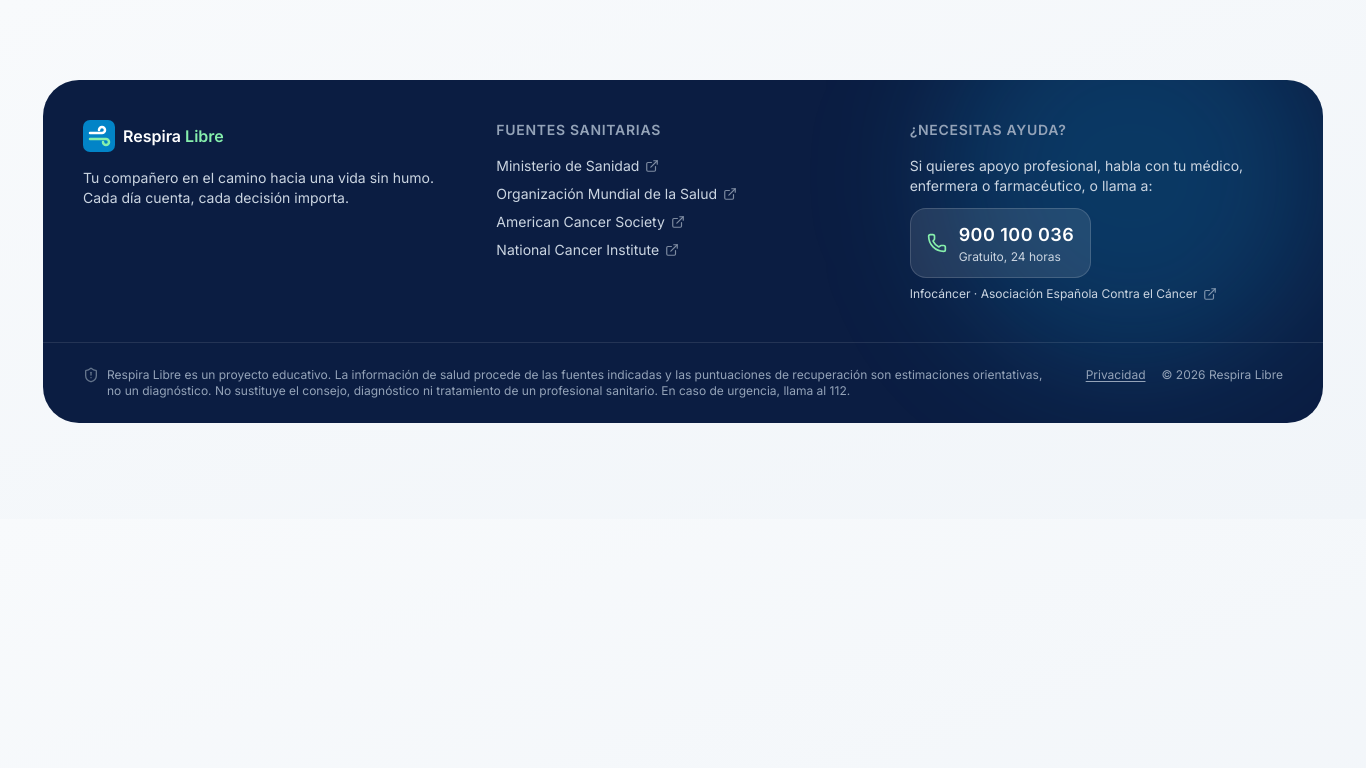
Test: Privacidad (desde el footer) › se cierra con "Entendido" y con Escape
Step 1. Click the button "Privacidad" → (1116, 375), box [1086, 367, 1146, 383]
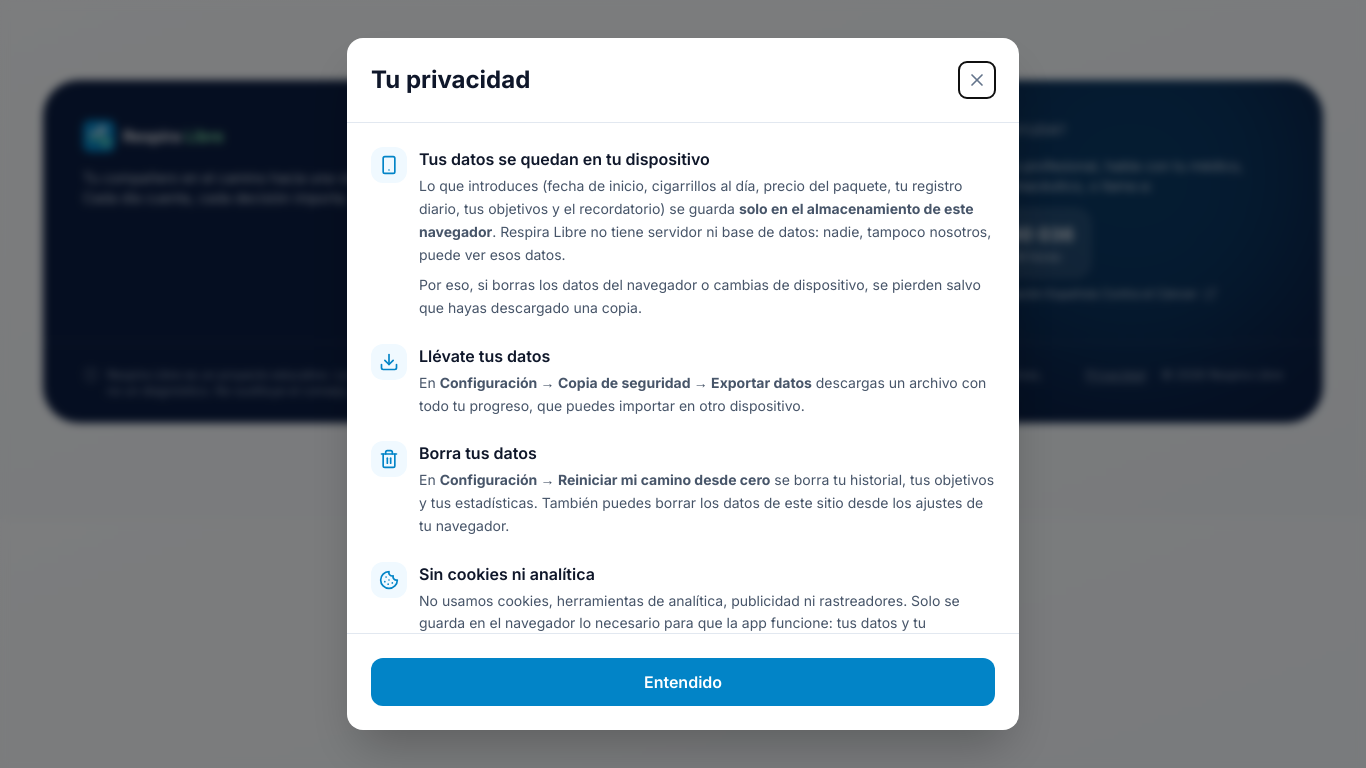
Step 2. Click the button "Entendido" → (683, 682), box [371, 658, 995, 706]
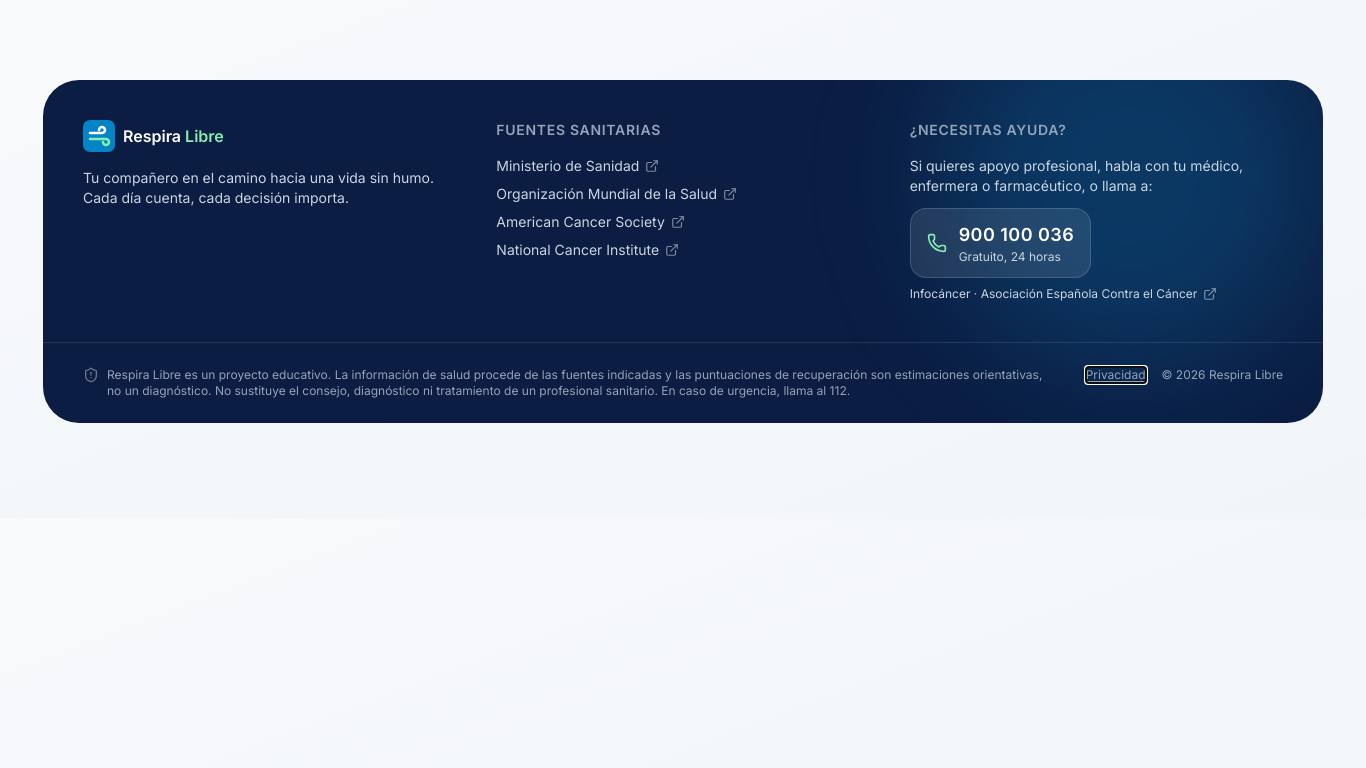
Now the dialog is gone
Step 3. Click the button "Privacidad" → (1116, 375), box [1086, 367, 1146, 383]
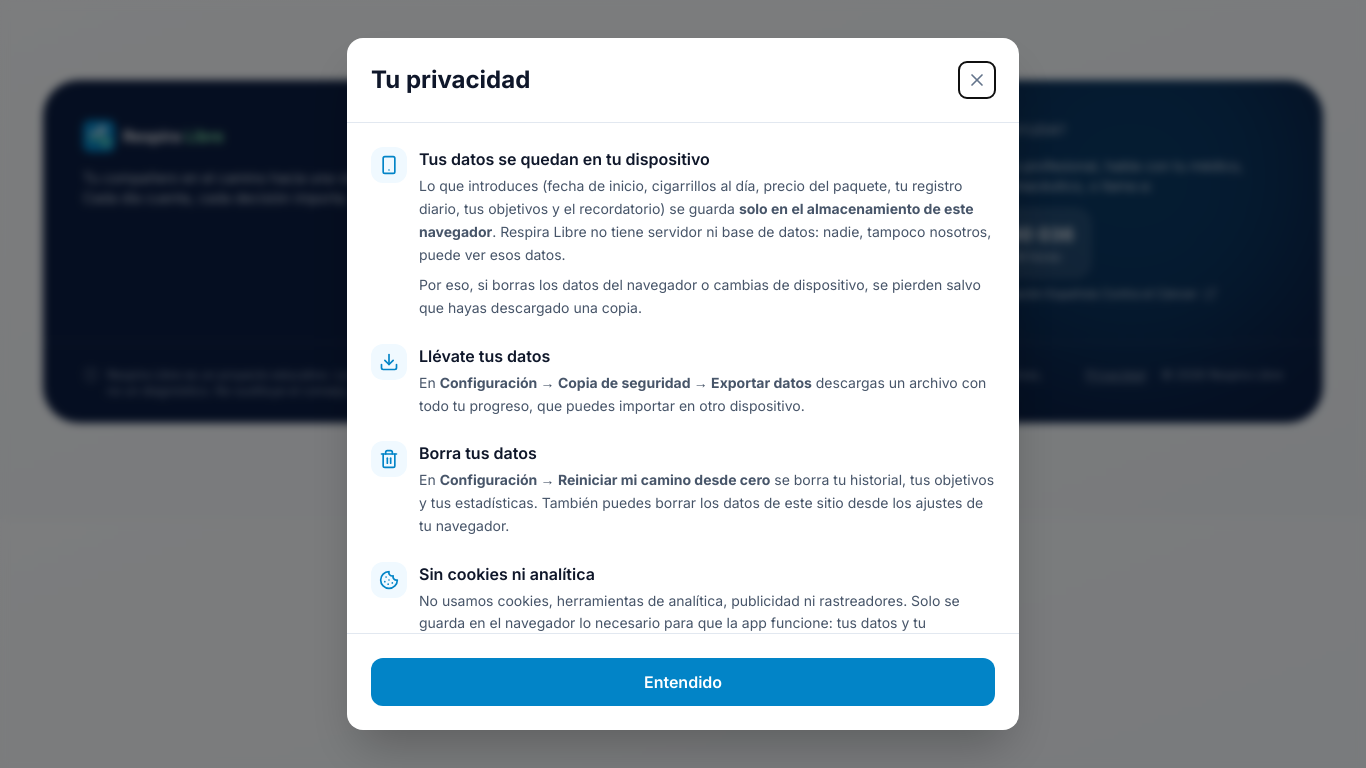
Step 4. Press Escape
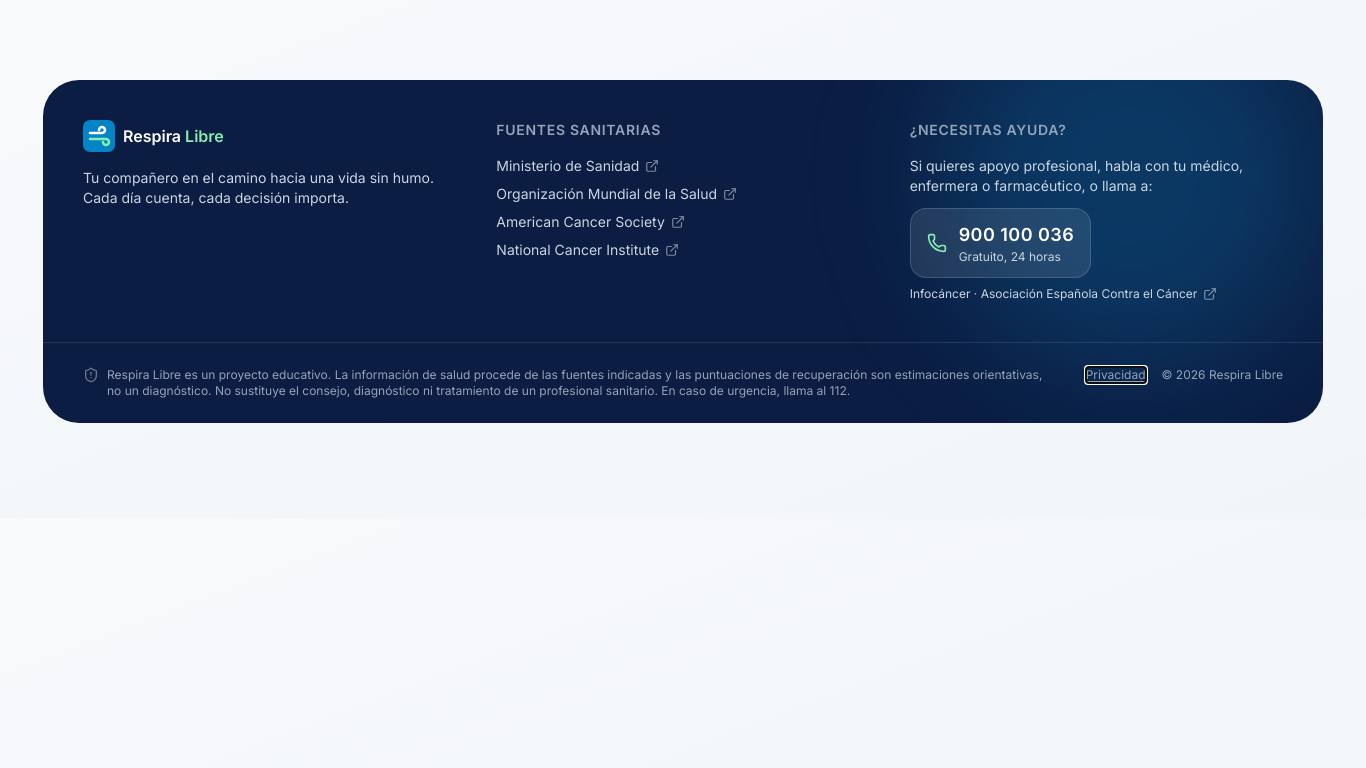
Now the dialog is gone
